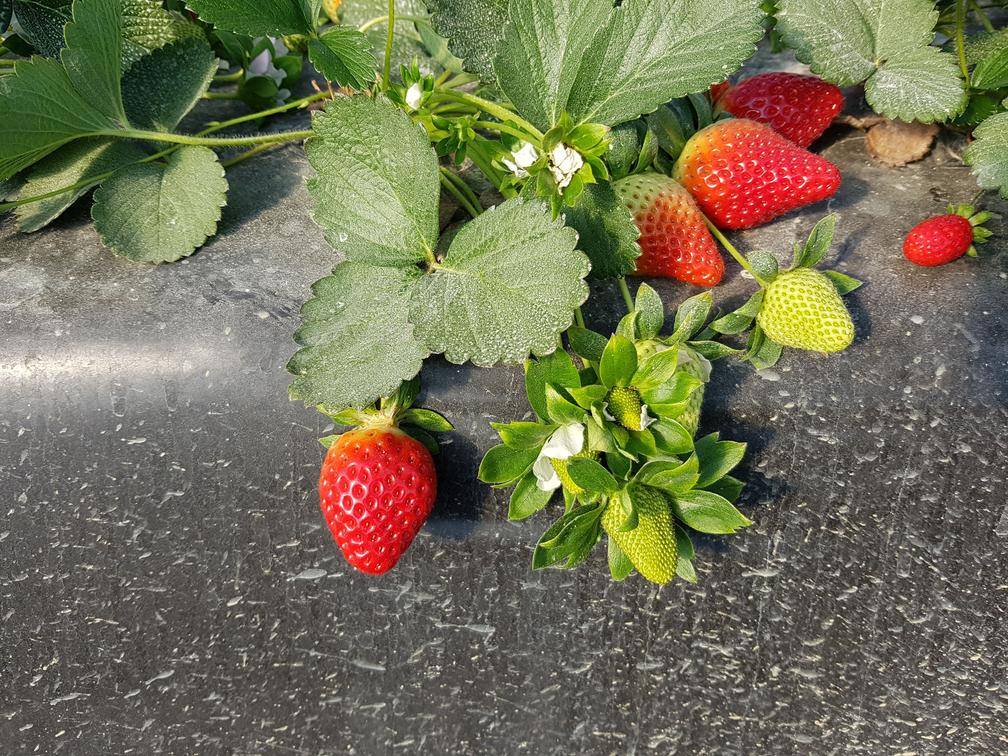Ripe: (316, 420, 442, 583), (679, 116, 843, 232), (604, 175, 726, 303), (712, 74, 854, 146), (899, 208, 975, 276)
